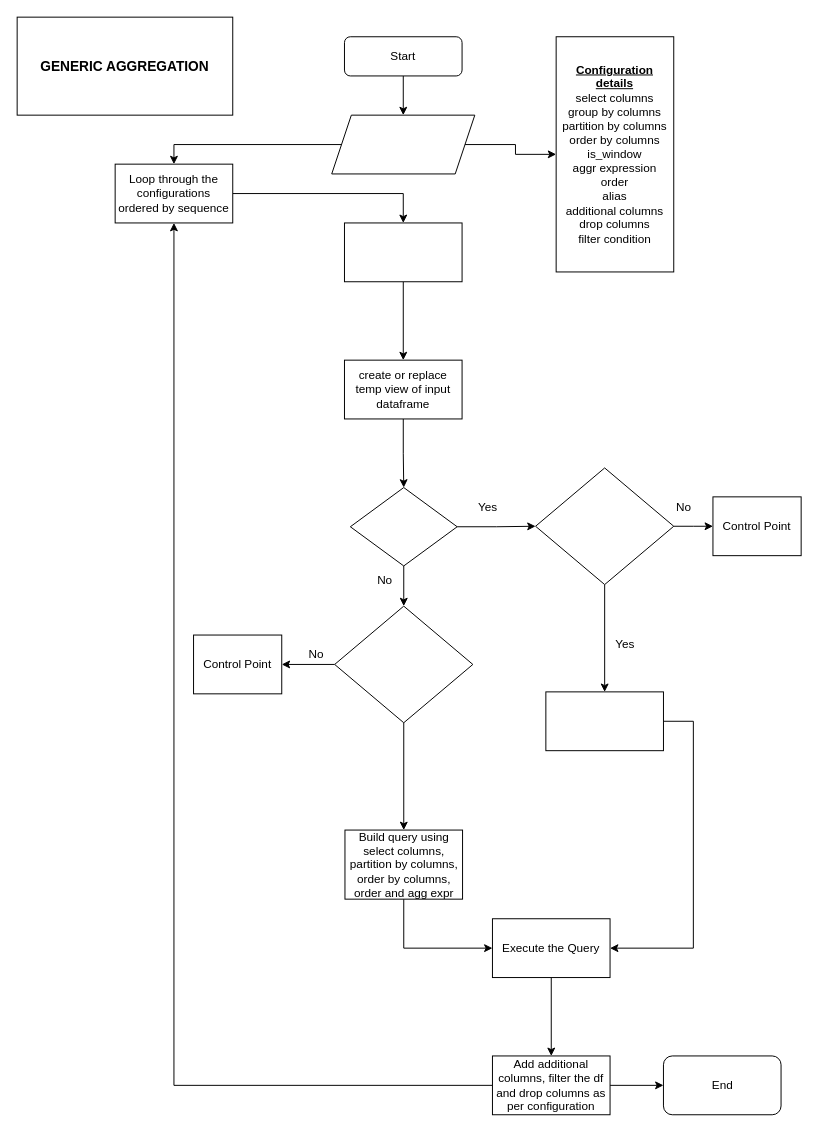
The diagram is 818 pixels wide and 1132 high, and some of its shapes have lost their labels. Here are the shapes that lost their labels. From the top down, the centre of each, then its label:
At (403,144): "input dataframe, configuration details".
At (402,252): "filter the dataframe using filter condition".
At (403,526): "is window = false".
At (604,526): "dataframe columns contains group by columns".
At (403,664): "dataframe columns contains partition by columns".
At (604,721): "Build query using select columns, group by columns and agg expr".
